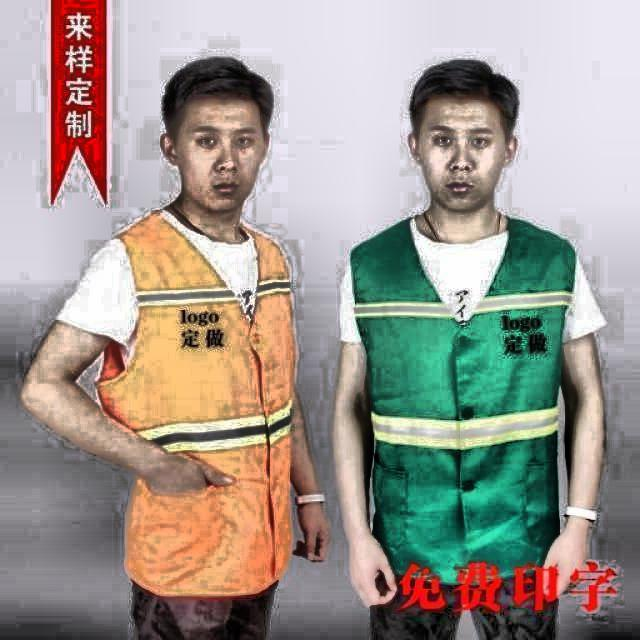safety_jacket: (367, 218, 574, 567), (116, 215, 284, 590)
